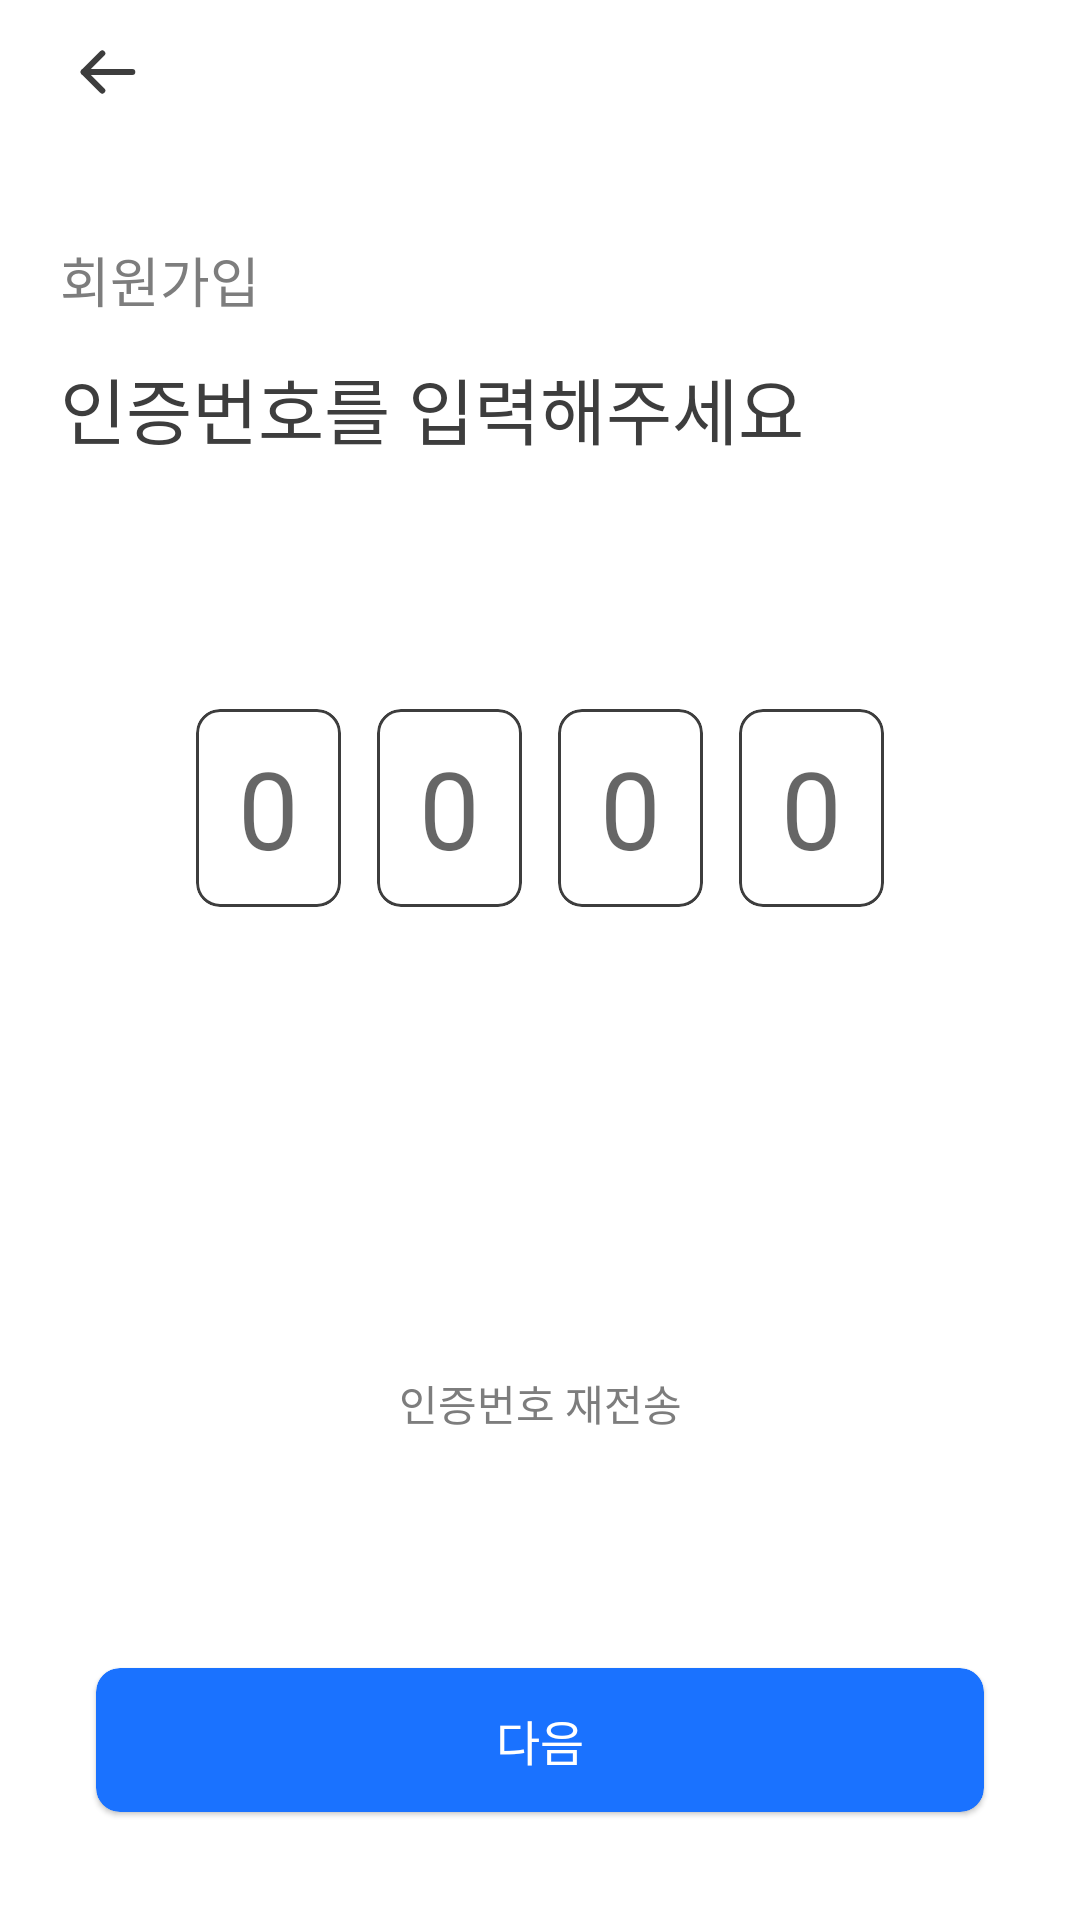

Locate icon controls on the screen. Image size 1080px×1920px, boxes as [x1,y1,x2,y2].
back: [80,50,136,94]
